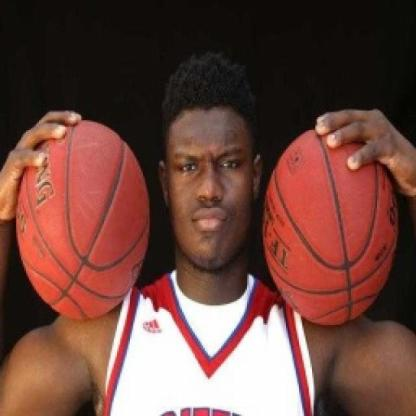basketball: (13, 113, 158, 326), (258, 117, 402, 330)
